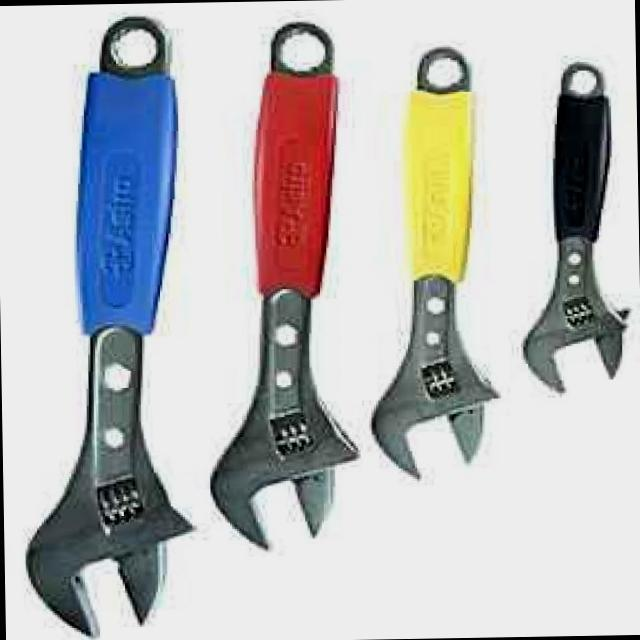wrench: (27, 18, 191, 635), (210, 24, 357, 549), (372, 49, 496, 478), (523, 64, 625, 392)
